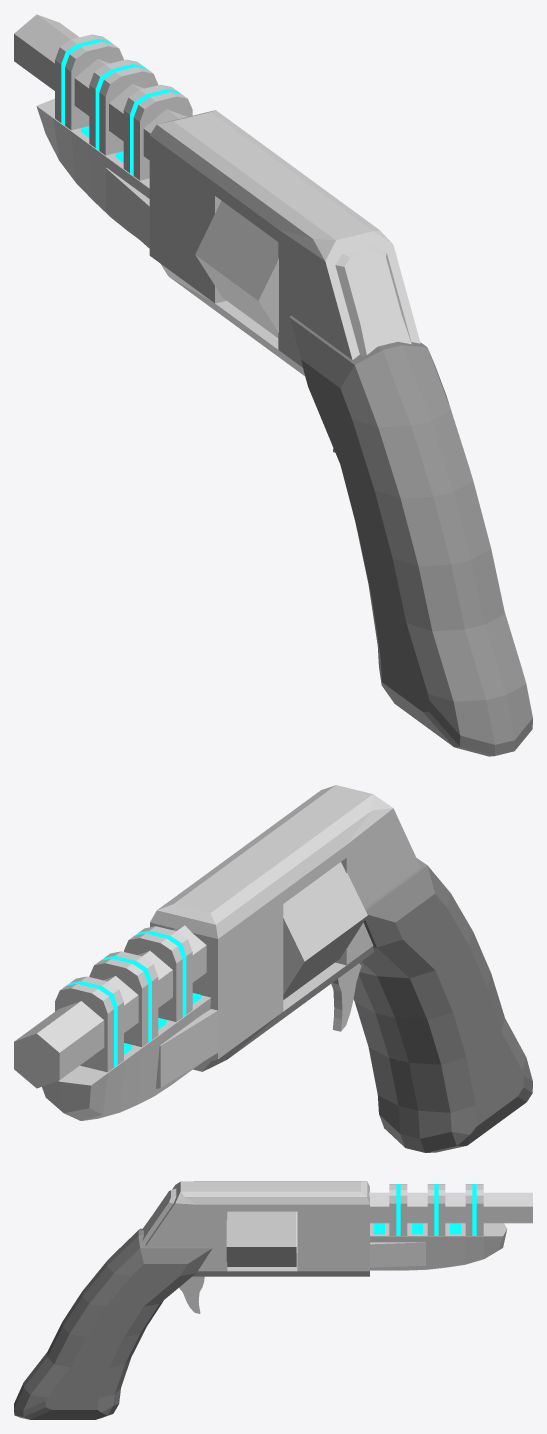
Rendered from Revolver.fbx.
3 views of the same model, one above another, from view 1: azimuth 30°, elevation 25°; view 2: azimuth 150°, elevation 25°; view 3: azimuth 270°, elevation 25° (orthographic). The views are drawn at different scales.
Visible parts, largest first — view 1: Revolver, Cylinder; view 2: Revolver, Cylinder; view 3: Revolver, Cylinder.
Boxes of the visible parts, x1,y1,x2,y2 form: Revolver: [14, 14, 532, 756]; Cylinder: [195, 200, 278, 337]; Revolver: [14, 785, 532, 1152]; Cylinder: [283, 862, 367, 999]; Revolver: [14, 1181, 532, 1419]; Cylinder: [226, 1211, 296, 1266].
Bounding box in the file's own units: 90 × 324 × 666.
